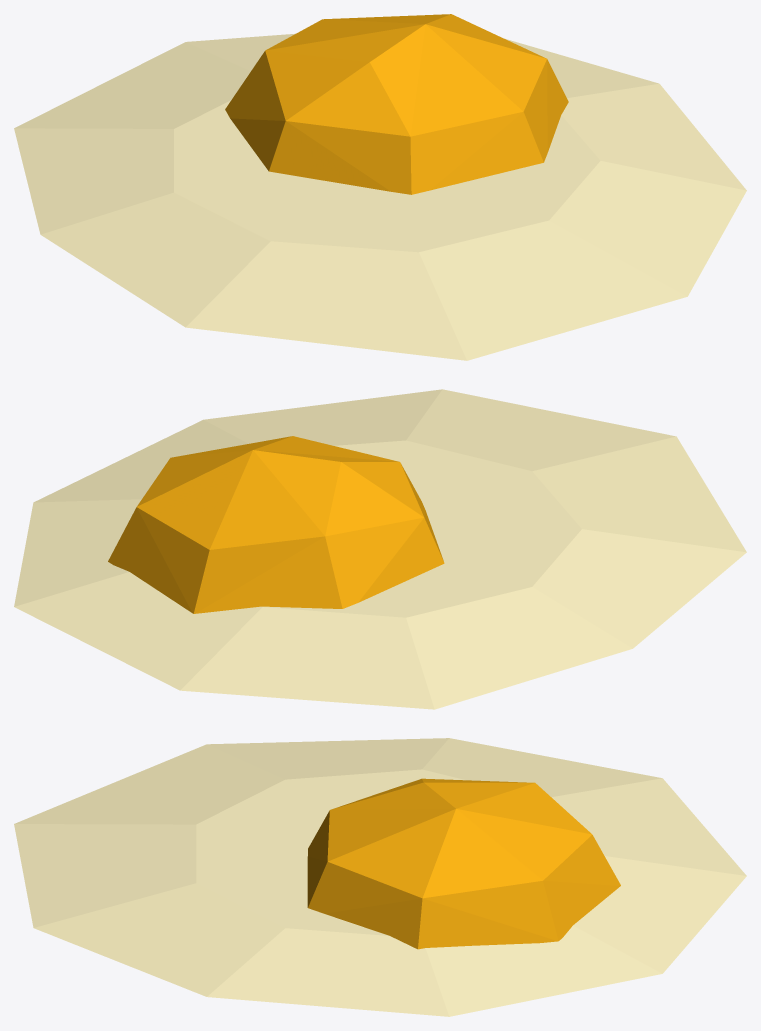
Rendered from fried_egg.fbx.
The picture shows the model from 3 angles, top to bottom: view 1: azimuth 30°, elevation 25°; view 2: azimuth 150°, elevation 25°; view 3: azimuth 270°, elevation 25°; orthographic projection. The views are drawn at different scales.
Parts seen in each view (by area): view 1: Cylinder; view 2: Cylinder; view 3: Cylinder.
Boxes of the visible parts, left/top/right/bottom form: Cylinder: left=14, top=14, right=746, bottom=360; Cylinder: left=14, top=389, right=746, bottom=709; Cylinder: left=14, top=738, right=746, bottom=1016.
Size of the model in its own units: 0.1157 by 0.0202 by 0.1286.
2 materials, 2 textured.
